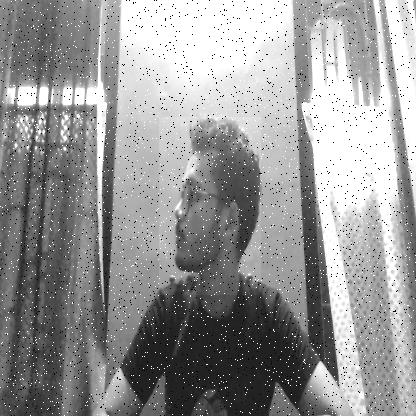Distracted: (159, 117, 261, 295)
